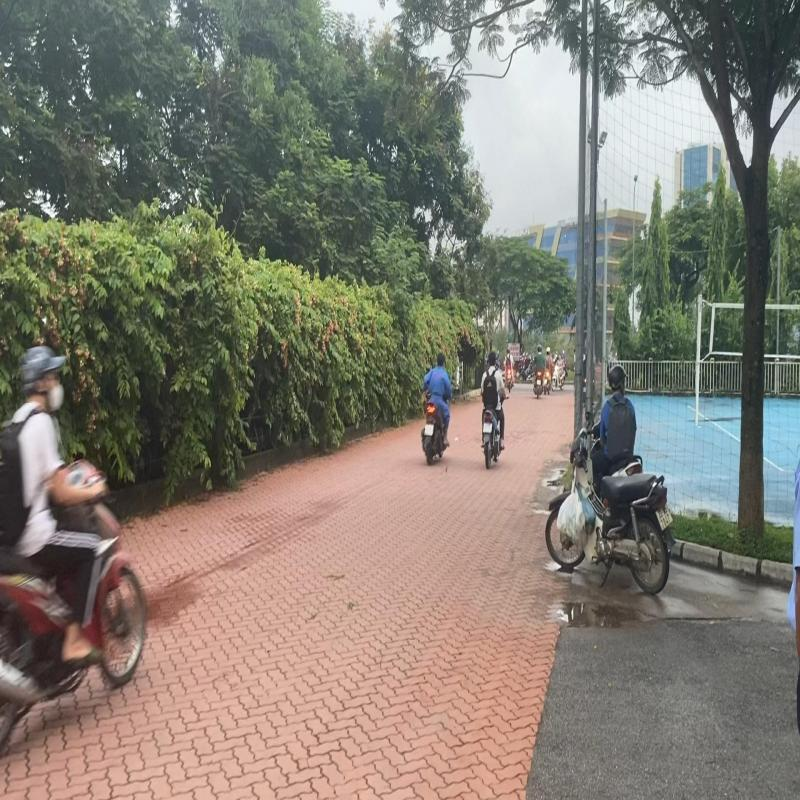licenseplate: (424, 424, 434, 435), (483, 424, 492, 432)
motorcyclist: (420, 351, 454, 466), (481, 351, 510, 470)
nohelmet: (437, 353, 444, 366), (489, 353, 496, 366)
